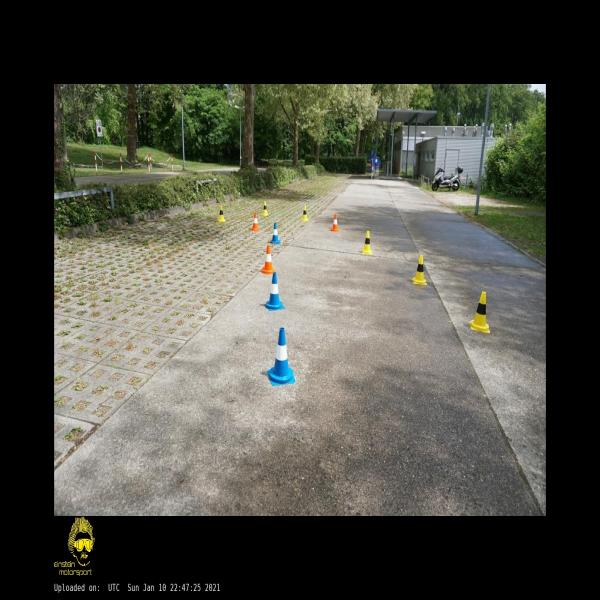blue_cone: (268, 327, 296, 386), (264, 273, 284, 311), (271, 223, 280, 244)
orange_cone: (261, 246, 274, 274), (252, 213, 260, 230), (331, 214, 339, 231)
yellow_cone: (469, 292, 490, 333), (412, 256, 427, 285), (362, 231, 372, 253), (218, 206, 225, 222), (262, 201, 268, 216), (302, 206, 308, 221)
